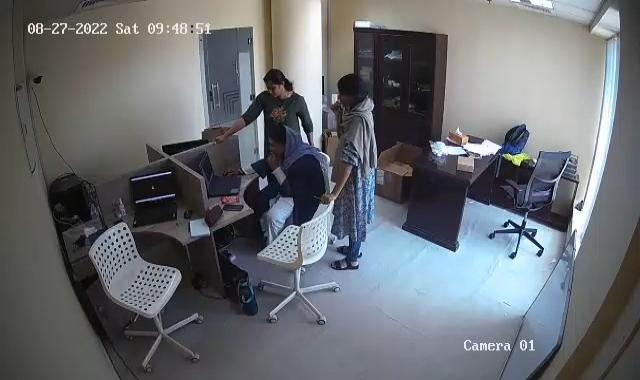no_hairnet: (332, 72, 368, 114), (264, 122, 299, 158), (264, 66, 293, 104)
